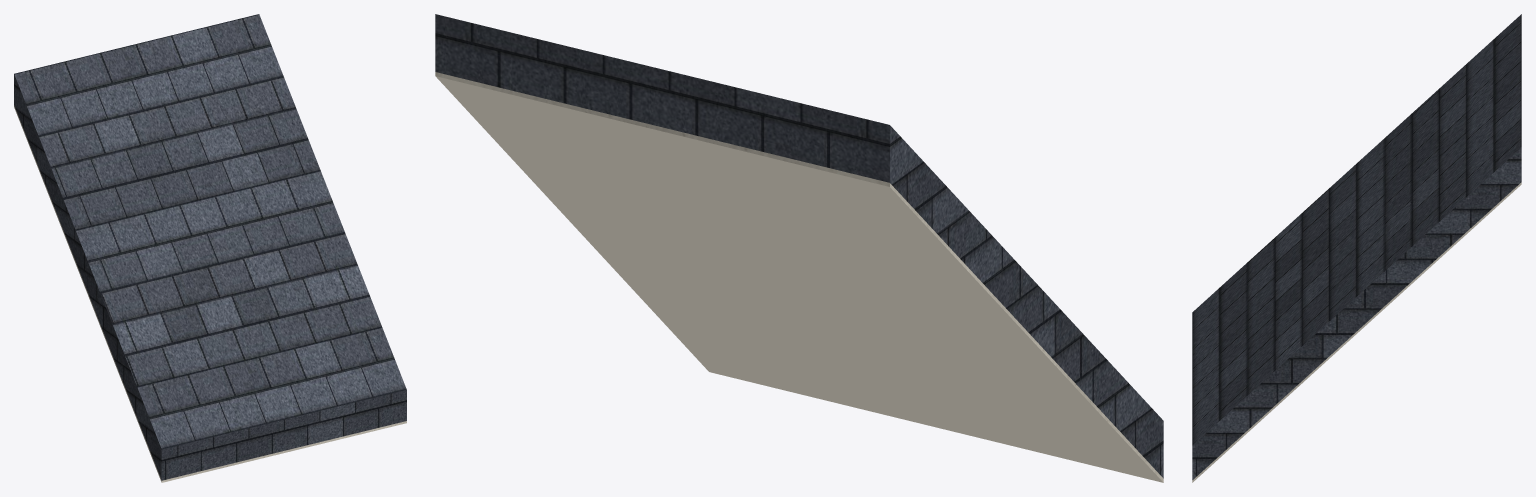
Rendered from garage_roof_end.glb.
The picture shows the model from 3 angles, left to right: view 1: azimuth 30°, elevation 25°; view 2: azimuth 150°, elevation 25°; view 3: azimuth 270°, elevation 25°; orthographic projection. The views are drawn at different scales.
Parts seen in each view (by area): view 1: garage_roof_end_shingle, garage_roof_end_plaster; view 2: garage_roof_end_plaster, garage_roof_end_shingle; view 3: garage_roof_end_shingle, garage_roof_end_plaster.
Boxes of the visible parts, box(x1,y1,x2,y2) form: garage_roof_end_shingle: box(14, 14, 406, 480); garage_roof_end_plaster: box(14, 105, 406, 482); garage_roof_end_plaster: box(435, 72, 1163, 482); garage_roof_end_shingle: box(435, 14, 1163, 478); garage_roof_end_shingle: box(1192, 14, 1521, 479); garage_roof_end_plaster: box(1192, 182, 1521, 482).
Bounding box in the file's own units: 2.3 × 2.7 × 2.4.
2 materials, 2 textured.
